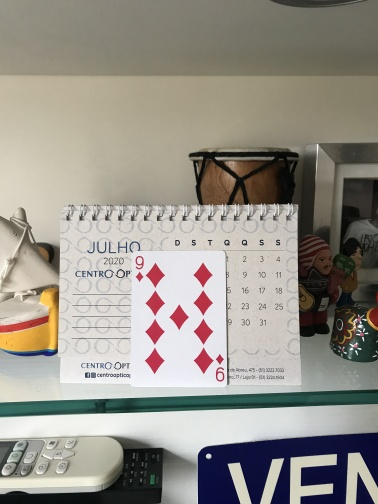nine: (129, 249, 228, 389)
